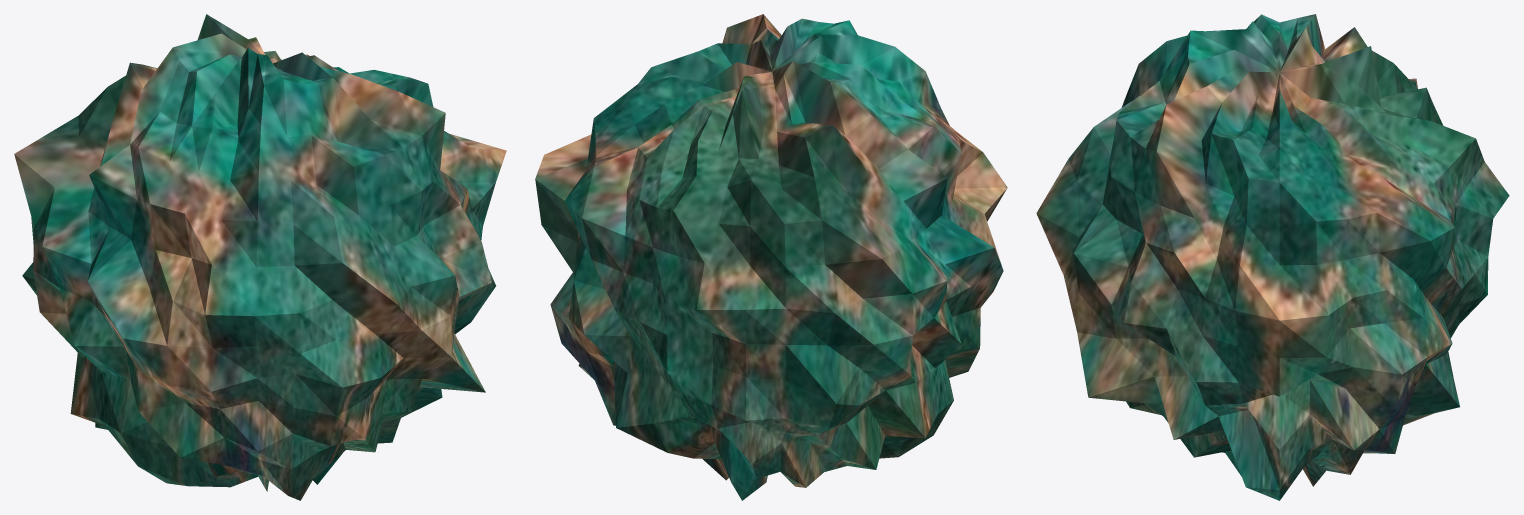
Rendered from Malachite_01.FBX.
3 views of the same model, side by side, from view 1: azimuth 30°, elevation 25°; view 2: azimuth 150°, elevation 25°; view 3: azimuth 270°, elevation 25° (orthographic). The views are drawn at different scales.
Parts seen in each view (by area): view 1: Sphere001; view 2: Sphere001; view 3: Sphere001.
Part boxes in pixels (x1,y1,x2,y2): Sphere001: (14,14,506,500); Sphere001: (535,14,1007,500); Sphere001: (1036,14,1509,500).
Bounding box in the file's own units: 45.09 × 44.18 × 43.56.
